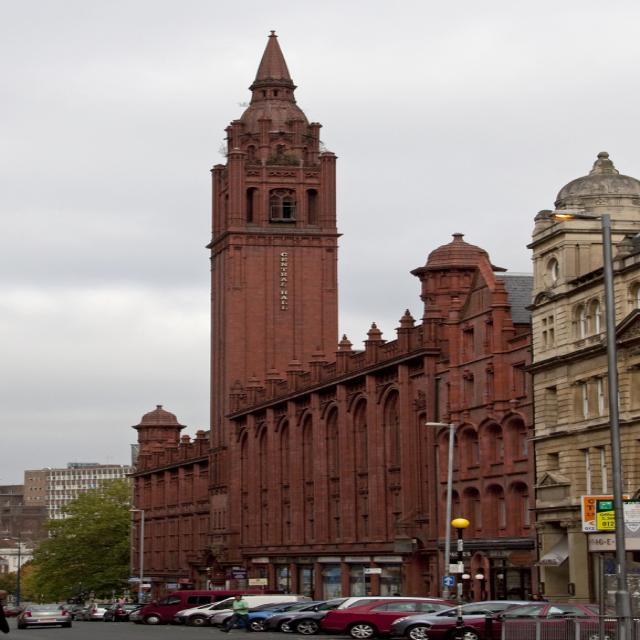car: (12, 604, 75, 628)
